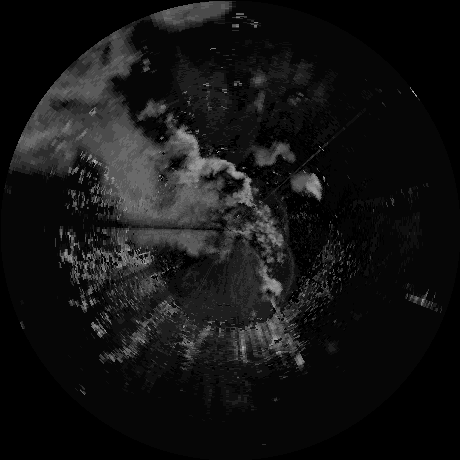frontgust: (285, 243, 296, 298), (277, 198, 289, 238)
